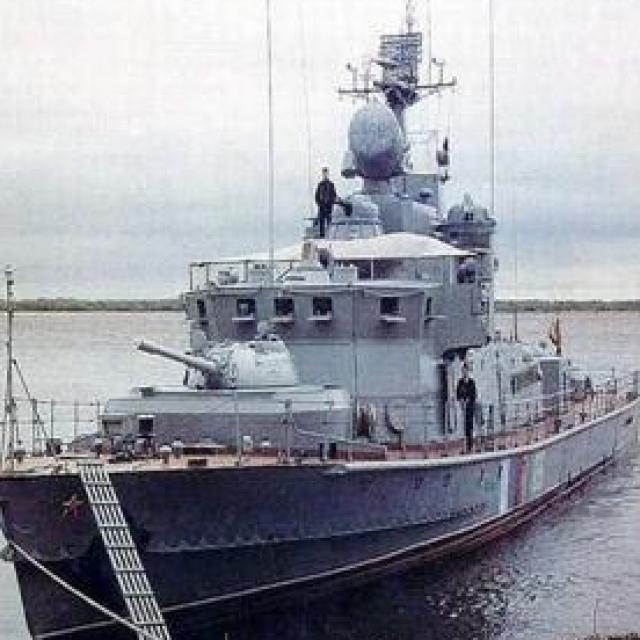navalvessels: (0, 9, 638, 640)
